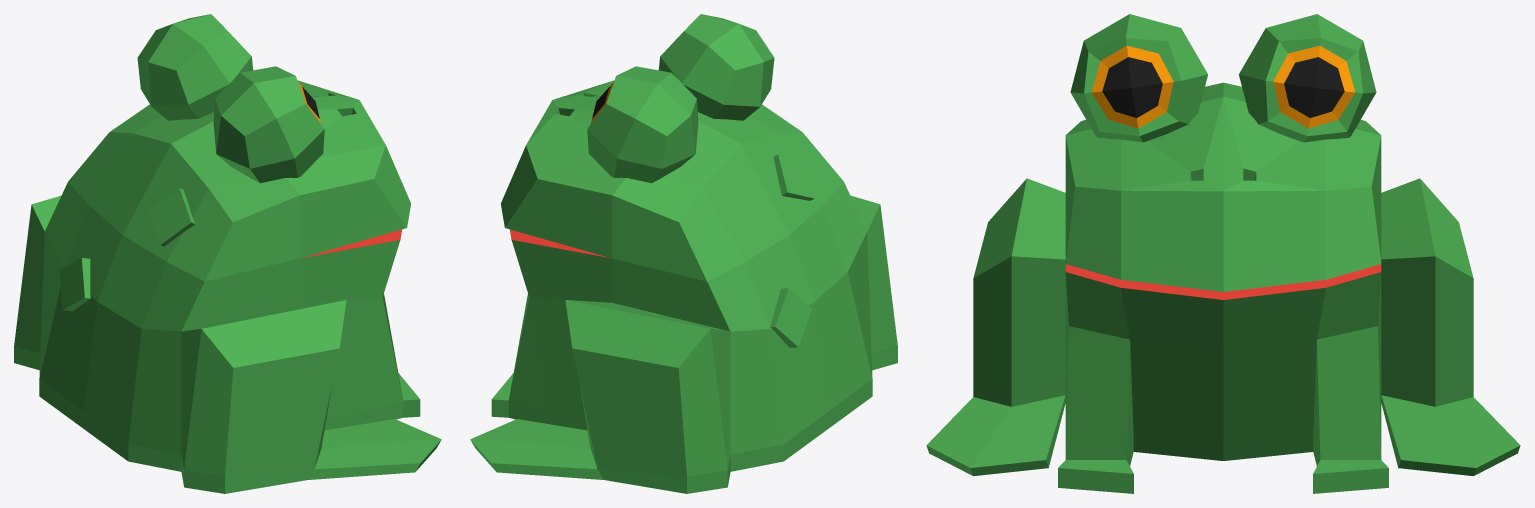
Rendered from frog.fbx.
The picture shows the model from 3 angles, left to right: view 1: azimuth 30°, elevation 25°; view 2: azimuth 150°, elevation 25°; view 3: azimuth 270°, elevation 25°; orthographic projection. The views are drawn at different scales.
Visible parts, largest first — view 1: Frog_01; view 2: Frog_01; view 3: Frog_01.
Part boxes in pixels (x1,y1,x2,y2): Frog_01: (14, 14, 441, 493); Frog_01: (470, 14, 897, 493); Frog_01: (926, 14, 1520, 493).
Bounding box in the file's own units: 20 × 21.56 × 29.21.
